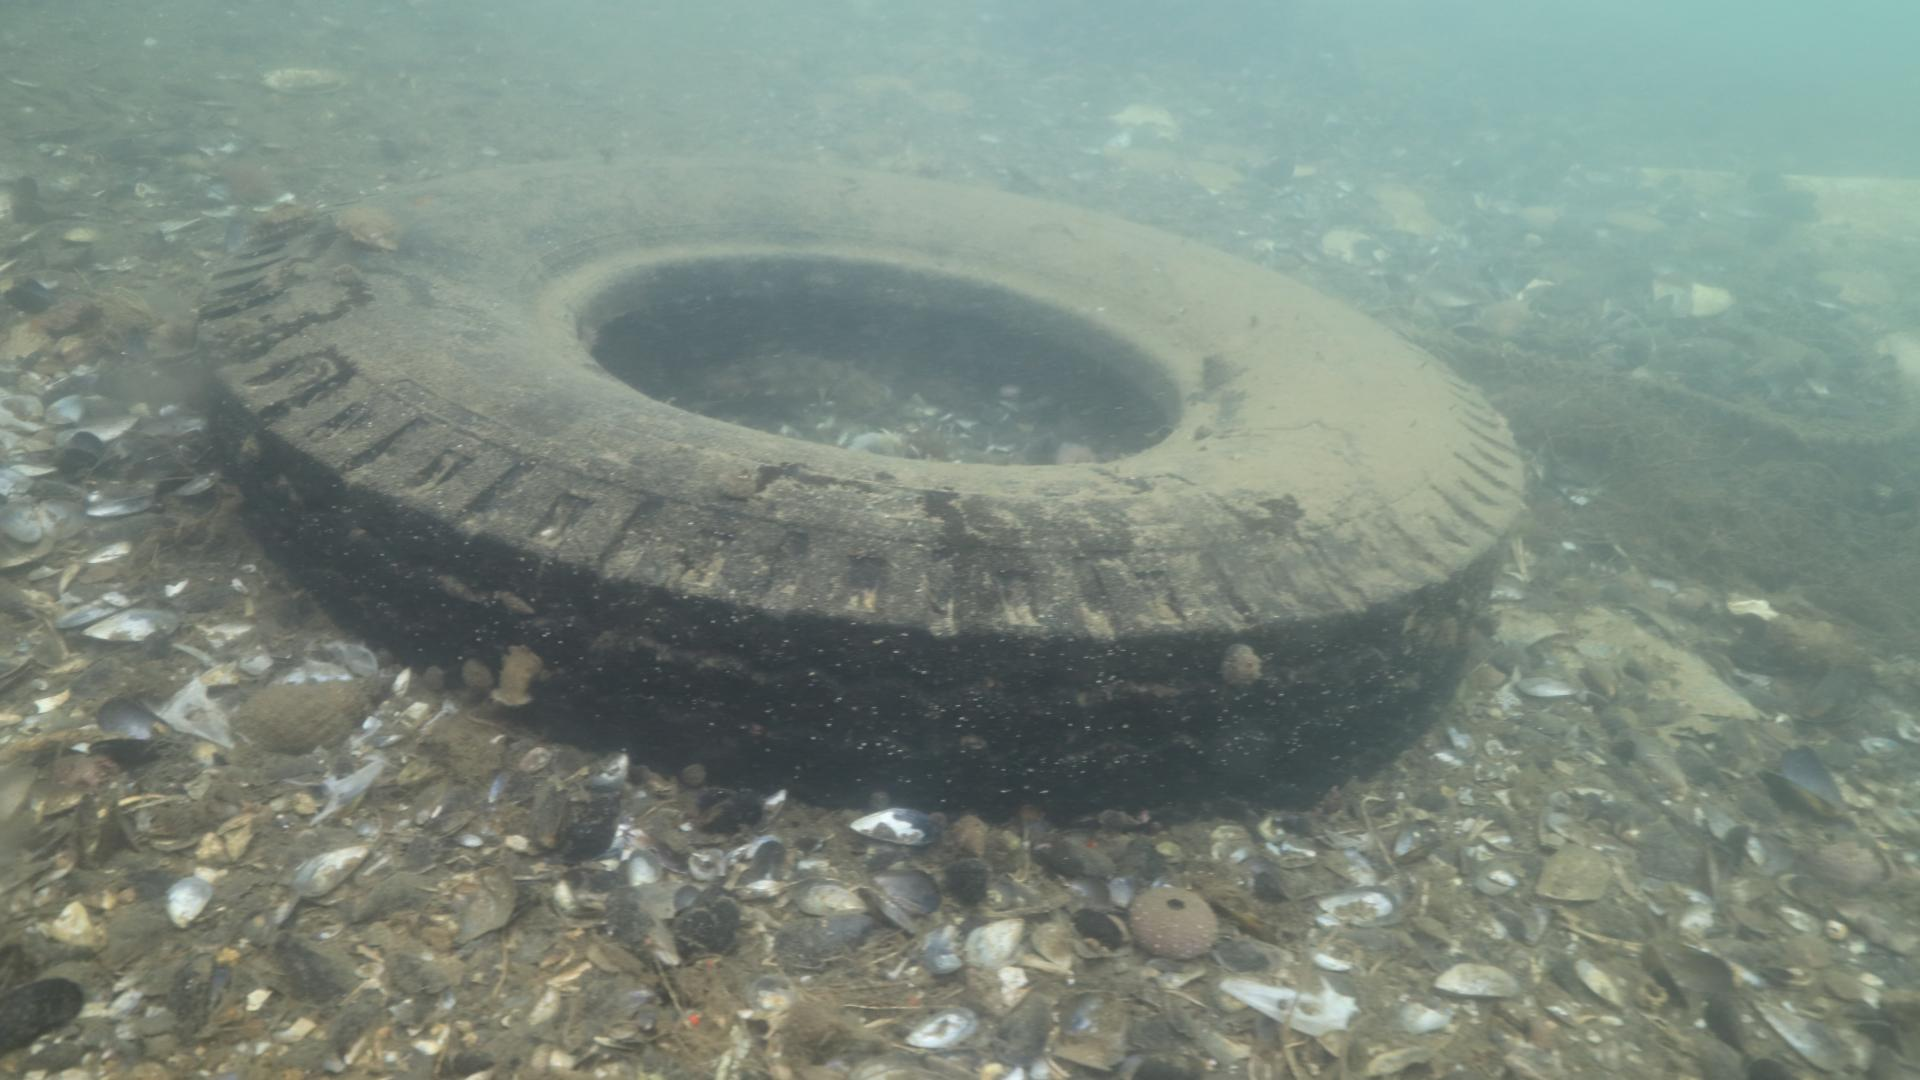tire: (196, 152, 1527, 804)
